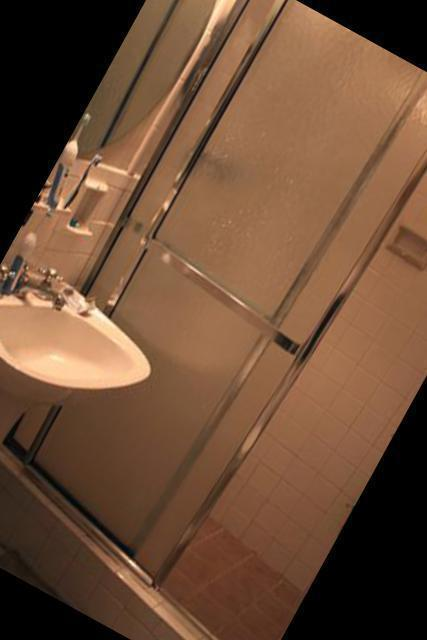Ducha: (0, 0, 427, 640)
Lavamanos: (0, 195, 192, 633)
